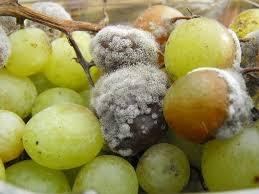Grape Rotten: (0, 4, 258, 194)
